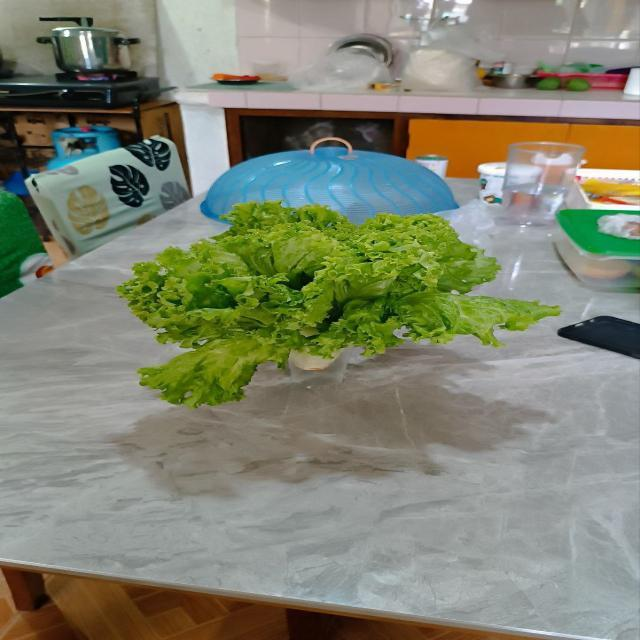Lettuce-Ready-to-Harvest: (119, 206, 545, 421)
